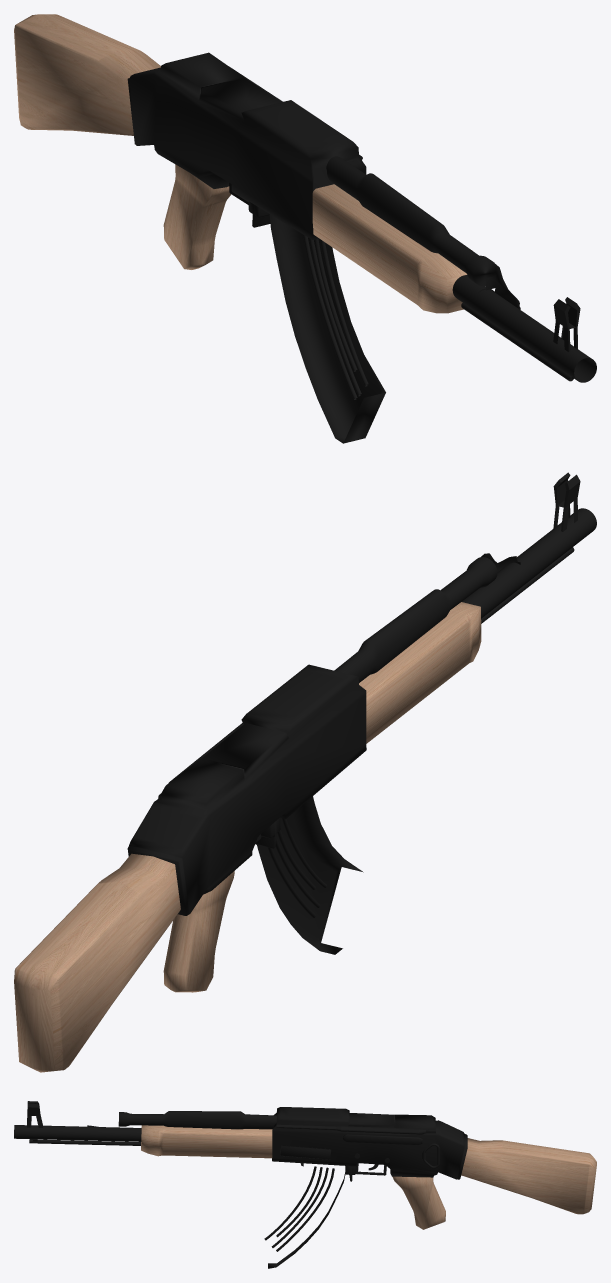
3 renders of one model, top to bottom at view 1: azimuth 30°, elevation 25°; view 2: azimuth 150°, elevation 25°; view 3: azimuth 270°, elevation 25°, orthographic. The views are drawn at different scales.
Parts seen in each view (by area): view 1: Cube.003, Manche Bois 1, Plane, Cube.011, Cylinder.002, Manche Bois 2, Cylinder, BézierCurve.005, Cube.006, Cylinder.001, Cube; view 2: Cube.003, Manche Bois 1, Cube.011, Plane, Cylinder.002, Manche Bois 2, Cylinder, BézierCurve.005, Cube.006; view 3: Cube.003, Manche Bois 1, Cube.011, Cylinder.002, Cylinder, Manche Bois 2, BézierCurve.005, Cylinder.006, Cube.013, Cube.010, Cylinder.001, Plane (+1 smaller).
Boxes of the visible parts, <box> form: Cube.003: <box>127,52,366,239</box>; Manche Bois 1: <box>14,14,160,135</box>; Plane: <box>269,214,385,443</box>; Cube.011: <box>312,184,467,313</box>; Cylinder.002: <box>326,156,495,286</box>; Manche Bois 2: <box>163,164,231,269</box>; Cylinder: <box>452,275,596,382</box>; BézierCurve.005: <box>303,234,368,399</box>; Cube.006: <box>553,297,580,352</box>; Cylinder.001: <box>461,303,573,381</box>; Cube: <box>486,262,519,309</box>; Cube.003: <box>127,664,366,915</box>; Manche Bois 1: <box>14,853,180,1072</box>; Cube.011: <box>359,602,481,743</box>; Plane: <box>257,796,363,954</box>; Cylinder.002: <box>334,557,497,682</box>; Manche Bois 2: <box>163,871,234,992</box>; Cylinder: <box>462,508,596,618</box>; BézierCurve.005: <box>267,818,326,917</box>; Cube.006: <box>553,472,580,531</box>; Cube.003: <box>272,1107,467,1179</box>; Manche Bois 1: <box>461,1138,596,1214</box>; Cube.011: <box>141,1125,272,1158</box>; Cylinder.002: <box>118,1111,276,1129</box>; Cylinder: <box>14,1125,141,1141</box>; Manche Bois 2: <box>392,1176,445,1229</box>; BézierCurve.005: <box>264,1166,334,1251</box>; Cylinder.006: <box>276,1124,435,1134</box>; Cube.013: <box>343,1134,422,1144</box>; Cube.010: <box>280,1145,331,1159</box>; Cylinder.001: <box>29,1139,140,1145</box>; Plane: <box>268,1163,346,1268</box>.
Size of the model in its own units: 0.3001 by 1.48 by 4.86.
Materials: 2 (1 with a texture image).
